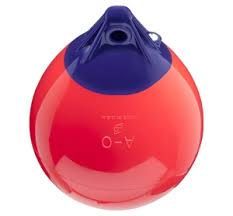buoy: (31, 42, 204, 209)
